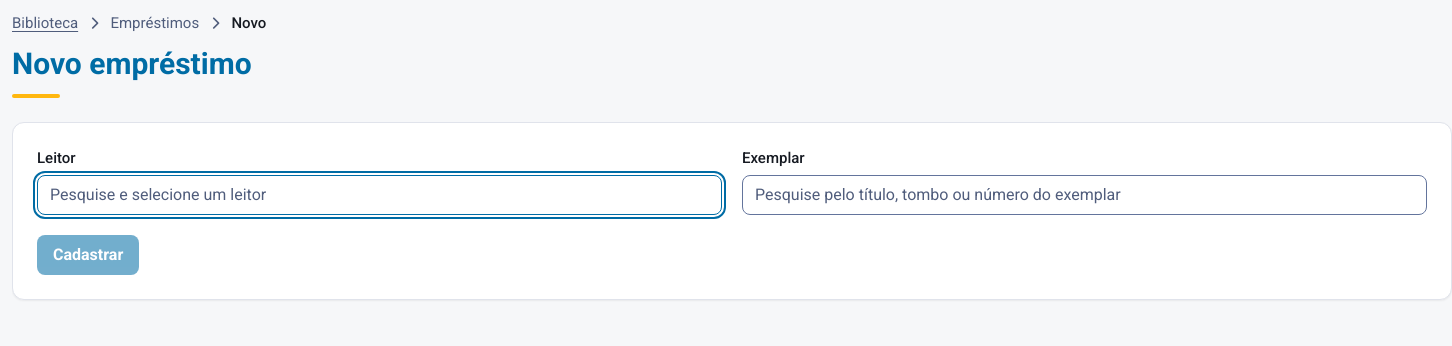
Test case: novo empréstimo autocomplete › invalidates an edited exemplar selection
Type "clicio" into the dropdown with id "leitor".
click(380, 195); type("clicio")  # box x1=37 y1=175 x2=722 y2=215
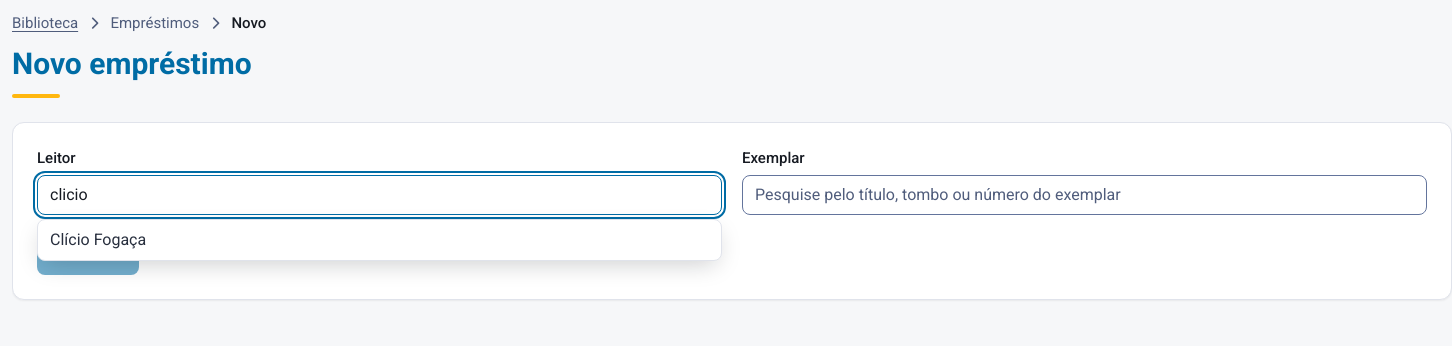
Click the option "Clício Fogaça".
click(98, 240)  # box x1=38 y1=220 x2=721 y2=260
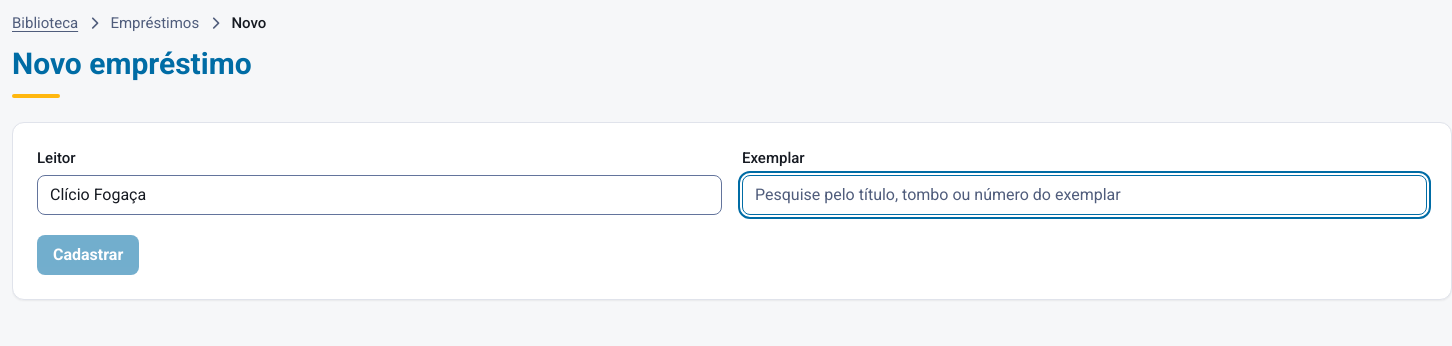
Type "00456" into the dropdown with id "exemplar".
click(1084, 195); type("00456")  # box x1=742 y1=175 x2=1427 y2=215
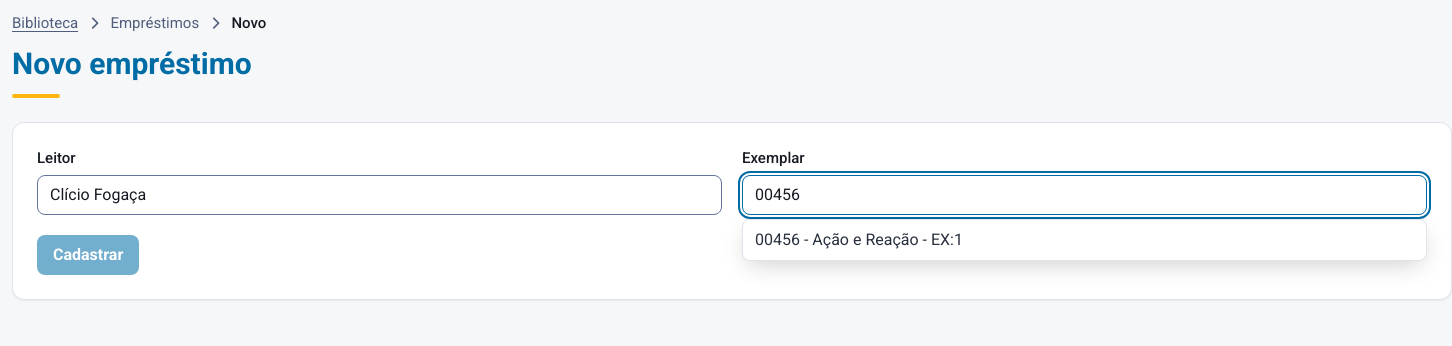
Click the option "00456 - Ação e Reação - EX:1".
click(859, 240)  # box x1=743 y1=220 x2=1426 y2=260
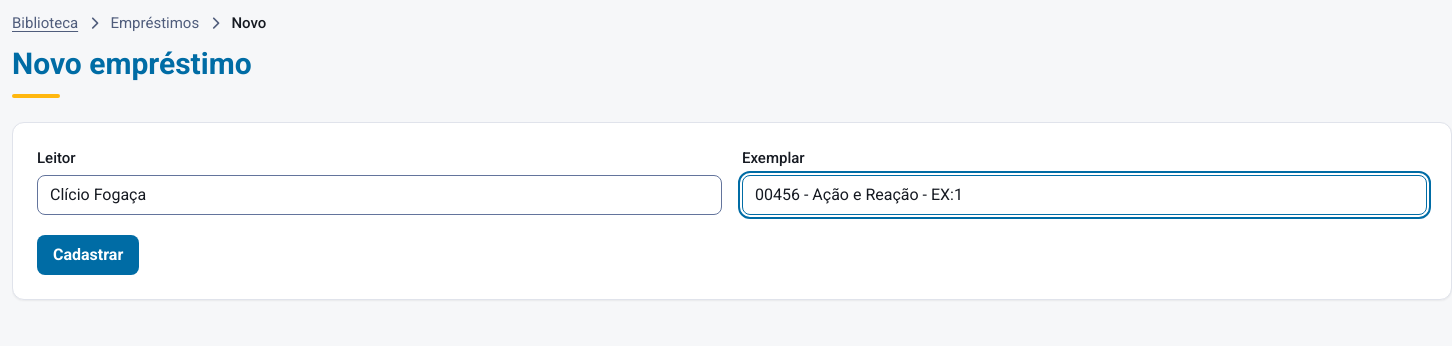
Replace the text in the dropdown with id "exemplar" with "pesquisa sem seleção" at point(1084, 195), box x1=742 y1=175 x2=1427 y2=215
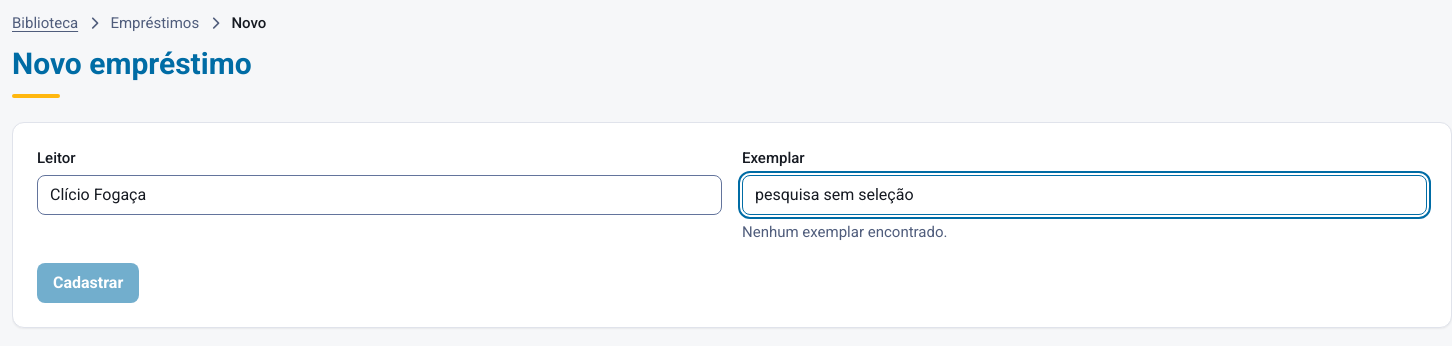
Now the submit button is disabled, box x1=37 y1=263 x2=139 y2=303
